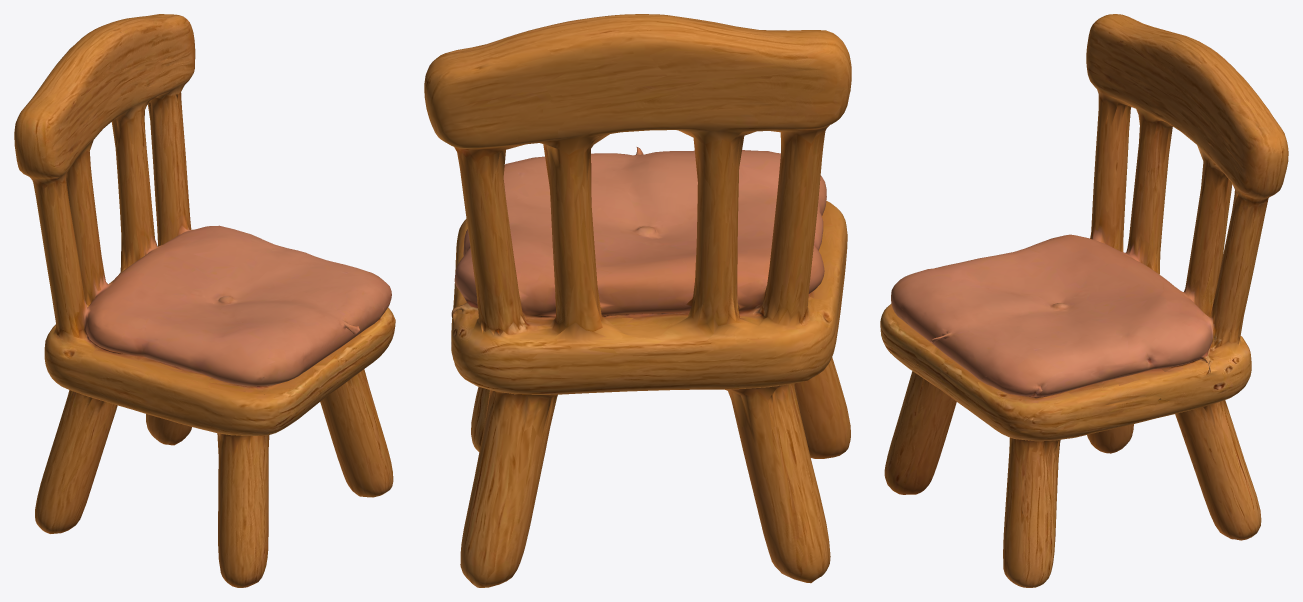
The model's file is room-desk-chair.glb.
The picture shows the model from 3 angles, left to right: view 1: azimuth 30°, elevation 25°; view 2: azimuth 150°, elevation 25°; view 3: azimuth 270°, elevation 25°; orthographic projection. The views are drawn at different scales.
Visible parts, largest first — view 1: tripo_node_79694e7b-09aa-4019-9cf1-10610a064fc2; view 2: tripo_node_79694e7b-09aa-4019-9cf1-10610a064fc2; view 3: tripo_node_79694e7b-09aa-4019-9cf1-10610a064fc2.
Part boxes in pixels (box(x1,y1,x2,y2)): tripo_node_79694e7b-09aa-4019-9cf1-10610a064fc2: box(14, 14, 395, 587); tripo_node_79694e7b-09aa-4019-9cf1-10610a064fc2: box(424, 14, 851, 587); tripo_node_79694e7b-09aa-4019-9cf1-10610a064fc2: box(880, 14, 1288, 587).
Size of the model in its own units: 0.7689 by 0.9769 by 0.8138.
1 material, 1 textured.
